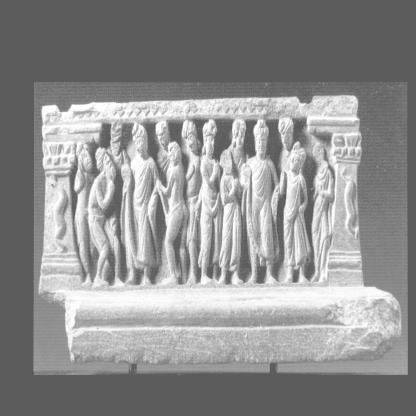buddha-standing: (241, 120, 279, 284)
